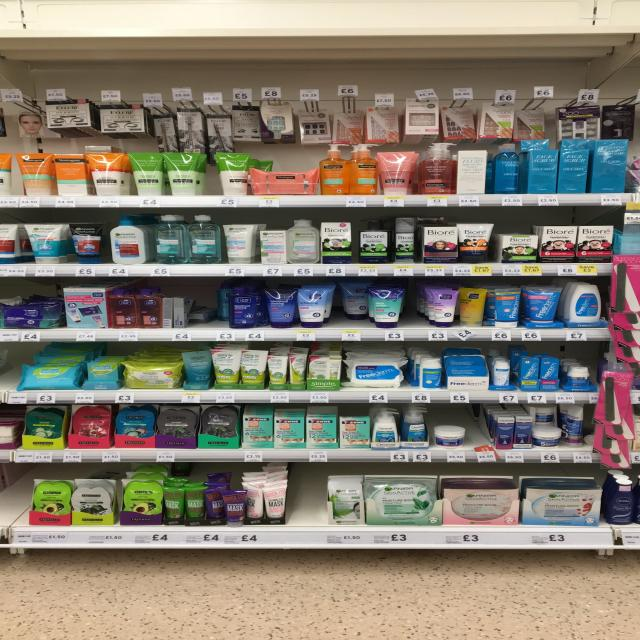void: (293, 465, 325, 546), (0, 464, 30, 547), (466, 405, 494, 464), (0, 344, 18, 406)
